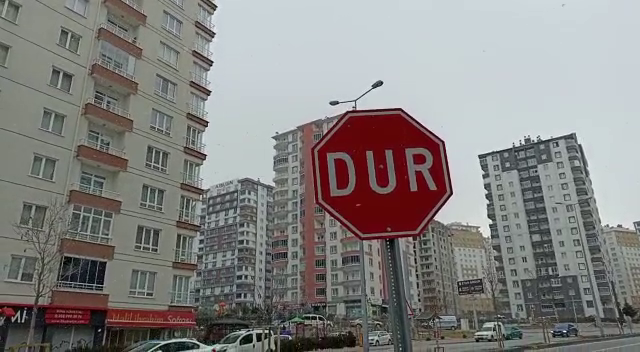stop: (307, 104, 458, 245)
